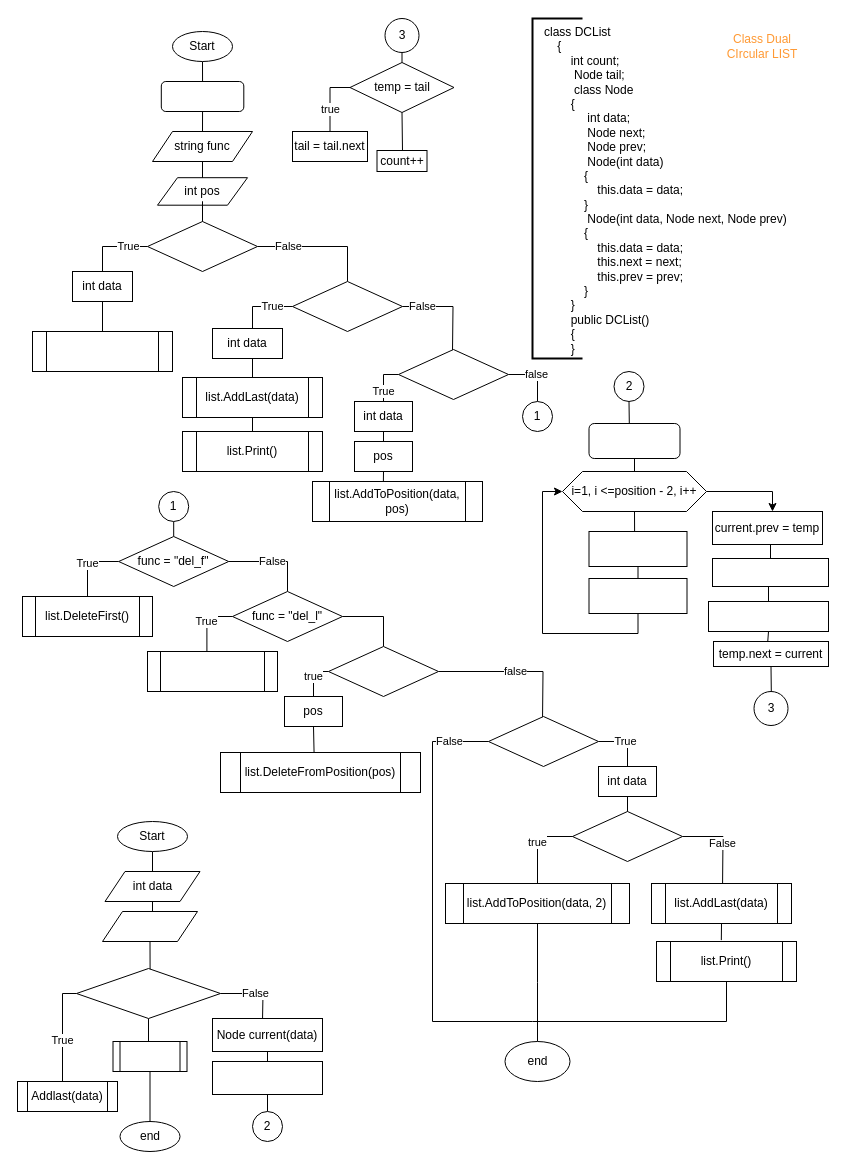
This 850x1169 diagram has some shape labels left out. The centre of each missing label's shape, as x and y in pixels:
current.next = temp.next: point 770,572
data % 2 = 0: point 627,836
DCList list: point 202,96
func = "add_f": point 202,246
func = "add_l": point 347,306
func = "add_to": point 453,374
func = "del_from": point 383,671
func = "do": point 543,741
int position: point 150,926
list.AddFirst(data): point 102,351
list.DeleteLast(): point 212,671
Node temp(0): point 267,1077
posistion > count: point 148,993
position--;: point 637,596
Print(): point 149,1056
temp = tail.next: point 634,440
temp = temp.next: point 637,548
temp.next.prev = current: point 768,616
